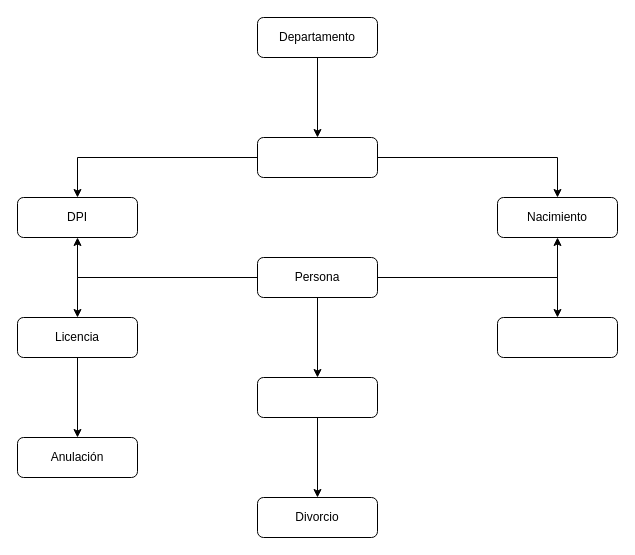
This 635x555 diagram has some shape labels left out. The shapes that lost their labels are listed below. From the top down, each one's box as (x1, y1, x2, y2) in pixels, then its label:
(256, 136, 378, 178): Municipio
(496, 316, 618, 358): Defunción
(256, 376, 378, 418): Matrimonio
